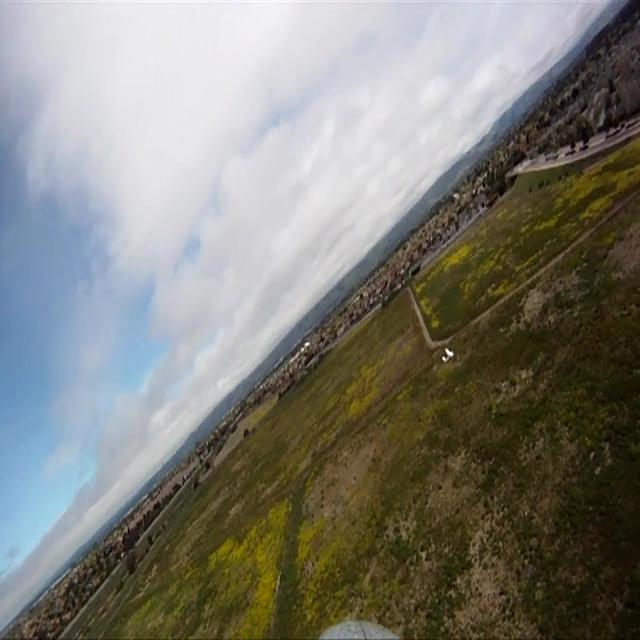iha: (438, 342, 457, 365)
